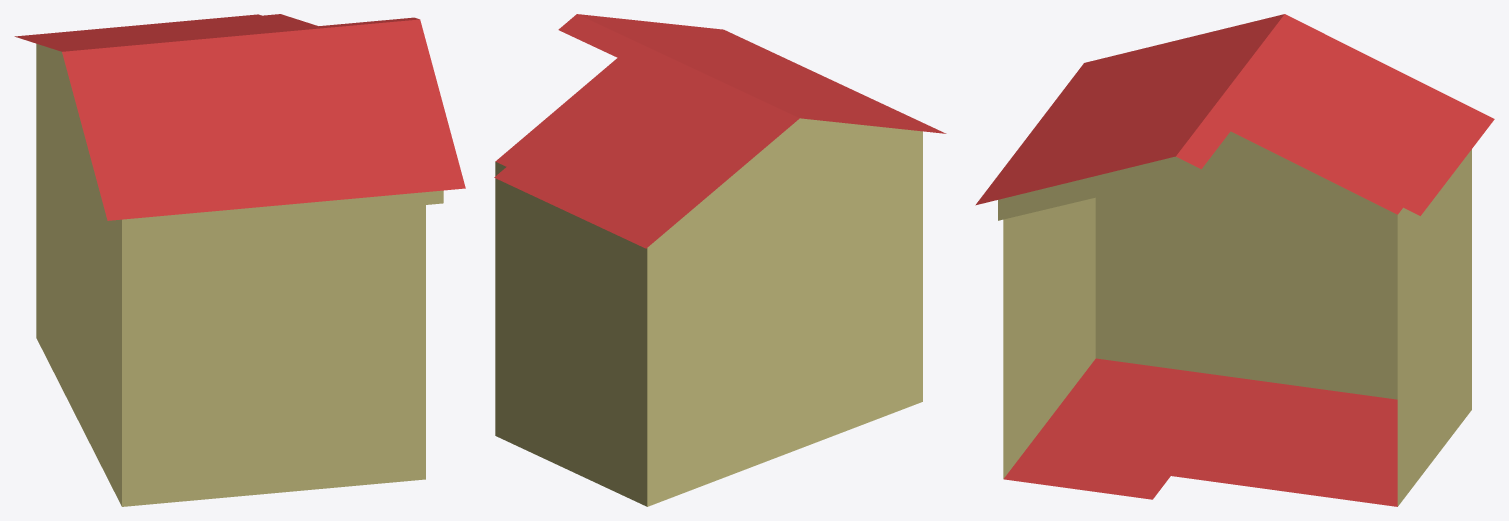
3 views of the same model, side by side, from view 1: azimuth 30°, elevation 25°; view 2: azimuth 150°, elevation 25°; view 3: azimuth 270°, elevation 25° (orthographic). The views are drawn at different scales.
Size of the model in its own units: 11.31 by 14.33 by 11.02.
